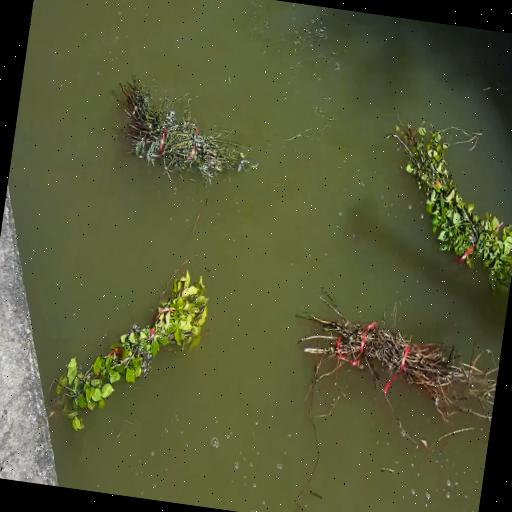twig: (36, 229, 221, 450), (298, 294, 506, 420), (388, 124, 512, 300), (116, 81, 262, 192)
